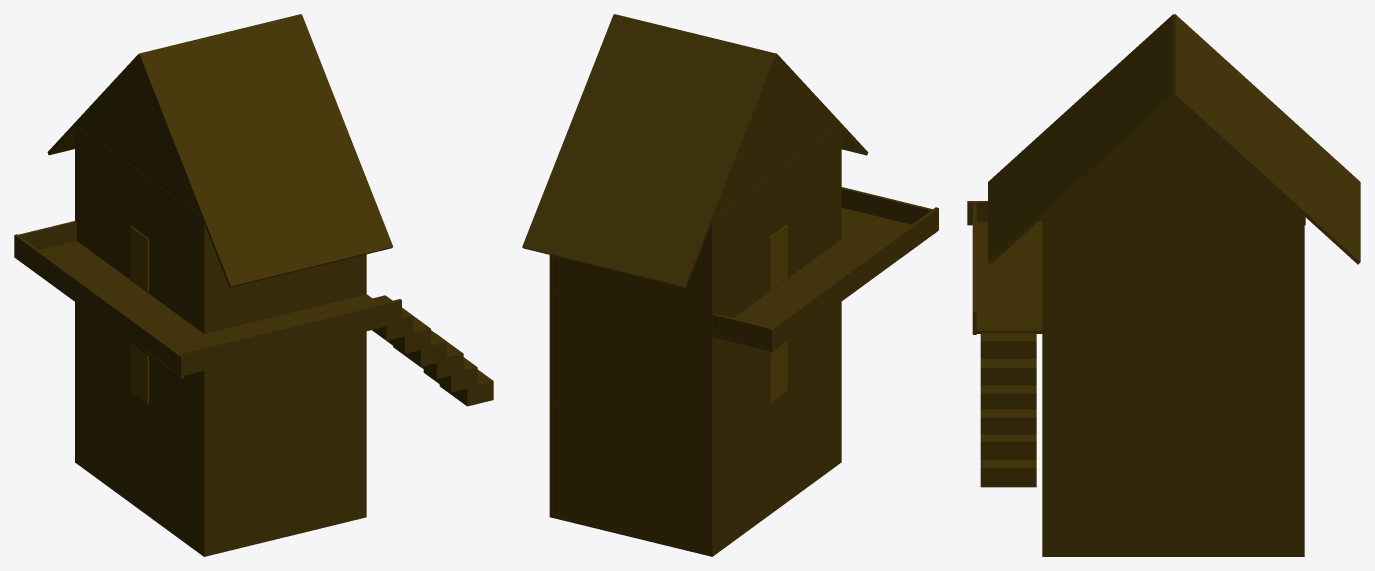
File: House.fbx
3 views of the same model, side by side, from view 1: azimuth 30°, elevation 25°; view 2: azimuth 150°, elevation 25°; view 3: azimuth 270°, elevation 25° (orthographic).
Visible parts, largest first — view 1: Cube.126, Cube.002, Cube.001, Cube.107, Cube.060, Cube.108, Cube.127, Cube.058, Cube.115, Cube.118, Cube.117, Cube.114 (+11 smaller); view 2: Cube.125, Cube.059, Cube.004, Cube.001, Cube.107, Cube.058, Cube.127, Cube.109, Cube.115, Cube.117, Cube.114, Cube.118 (+8 smaller); view 3: Cube.003, Cube.106, Cube.057, Cube.125, Cube.126, Cube.128, Cube.114, Cube.123, Cube.119, Cube.068, Cube.121, Cube.122 (+4 smaller).
Part boxes in pixels (x1,y1,x2,y2): Cube.126: (138,14,393,287); Cube.002: (204,406,366,556); Cube.001: (75,352,203,553); Cube.107: (75,128,203,330); Cube.060: (204,294,366,444); Cube.108: (204,223,366,333); Cube.127: (77,58,201,216); Cube.058: (75,302,203,443); Cube.115: (39,241,203,342); Cube.118: (176,299,401,376); Cube.117: (14,234,183,378); Cube.114: (142,294,401,376); Cube.125: (522,14,777,287); Cube.059: (553,295,709,442); Cube.004: (553,408,709,552); Cube.001: (709,352,841,553); Cube.107: (709,128,841,330); Cube.058: (709,302,841,443); Cube.127: (714,58,838,216); Cube.109: (553,229,709,329); Cube.115: (710,239,878,350); Cube.117: (769,207,938,352); Cube.114: (841,207,936,257); Cube.118: (841,187,936,230); Cube.003: (1042,444,1304,556); Cube.106: (1042,217,1304,329); Cube.057: (1042,330,1304,442); Cube.125: (1173,14,1360,264); Cube.126: (988,14,1175,264); Cube.128: (1047,98,1301,213); Cube.114: (972,221,1044,333); Cube.123: (980,460,1036,487); Cube.119: (980,359,1036,385); Cube.068: (980,333,1036,358); Cube.121: (980,409,1036,434); Cube.122: (980,434,1036,459).
Size of the model in its own units: 20727 by 28200 by 21725.
